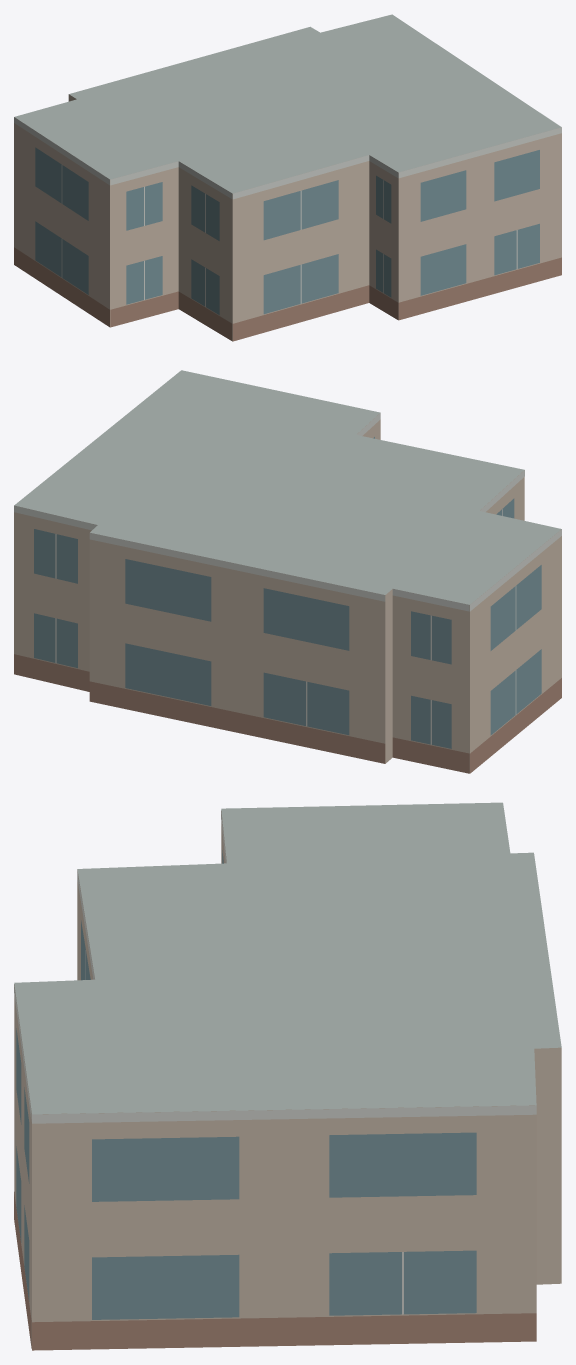
File: survey-upis-32804755.glb
The picture shows the model from 3 angles, top to bottom: view 1: azimuth 30°, elevation 25°; view 2: azimuth 150°, elevation 25°; view 3: azimuth 270°, elevation 25°; orthographic projection. The views are drawn at different scales.
Parts seen in each view (by area): view 1: survey-upis-32804755.tmp; view 2: survey-upis-32804755.tmp; view 3: survey-upis-32804755.tmp.
Boxes of the visible parts, x1,y1,x2,y2 form: survey-upis-32804755.tmp: [14, 14, 561, 341]; survey-upis-32804755.tmp: [14, 370, 561, 773]; survey-upis-32804755.tmp: [14, 802, 561, 1350].
Size of the model in its own units: 17.29 by 6.1 by 12.83.
